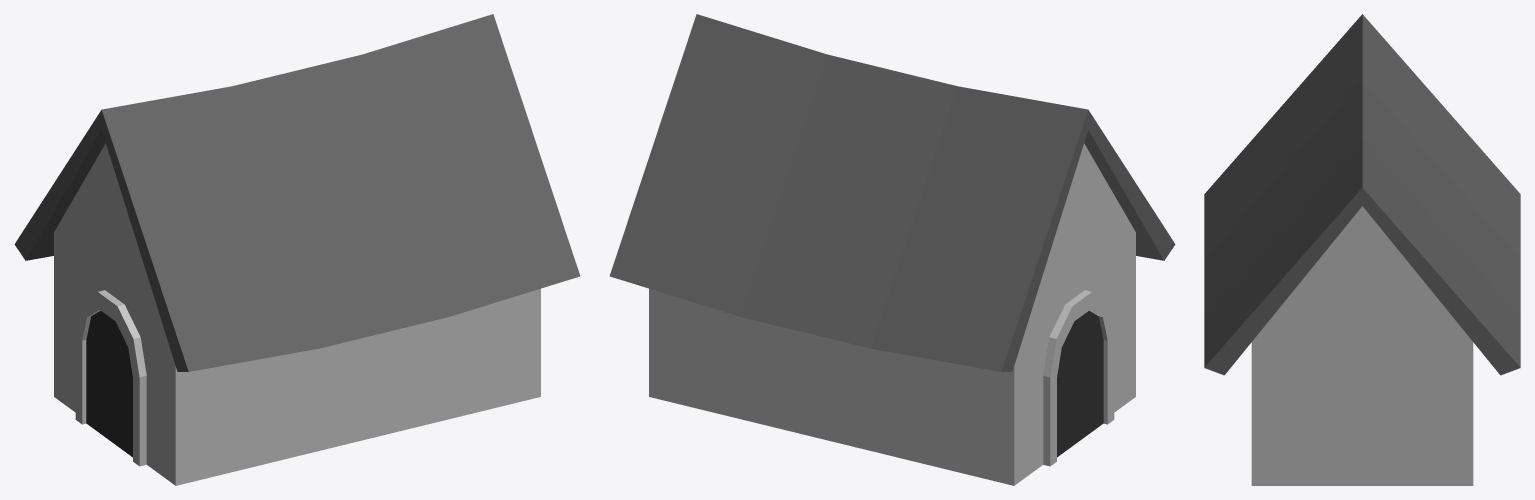
File: dog_house_4.fbx
The picture shows the model from 3 angles, left to right: view 1: azimuth 30°, elevation 25°; view 2: azimuth 150°, elevation 25°; view 3: azimuth 270°, elevation 25°; orthographic projection. The views are drawn at different scales.
Parts seen in each view (by area): view 1: dog_house_4; view 2: dog_house_4; view 3: dog_house_4.
Boxes of the visible parts, left/top/right/bottom form: dog_house_4: left=14, top=14, right=580, bottom=485; dog_house_4: left=609, top=14, right=1175, bottom=485; dog_house_4: left=1204, top=14, right=1520, bottom=485.
Bounding box in the file's own units: 1.67 × 1.37 × 1.29.
